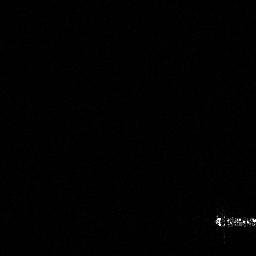ship: (212, 210, 256, 229)
